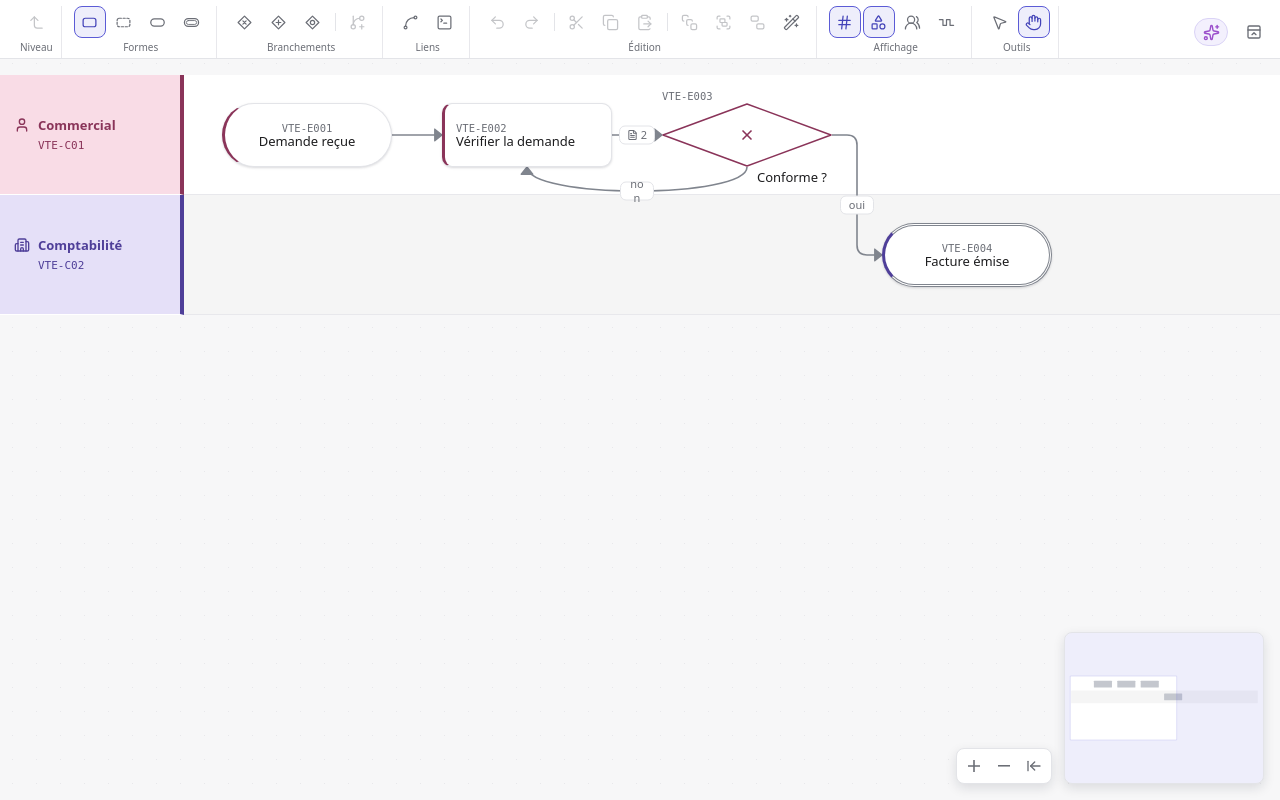
it: the panel of the assistant on the map › opens and closes by its button and Ctrl+I, reads its state and says where the data go
Click the button with test id "ribbon-assistant". click: (1211, 32)
box: [1194,18,1228,46]
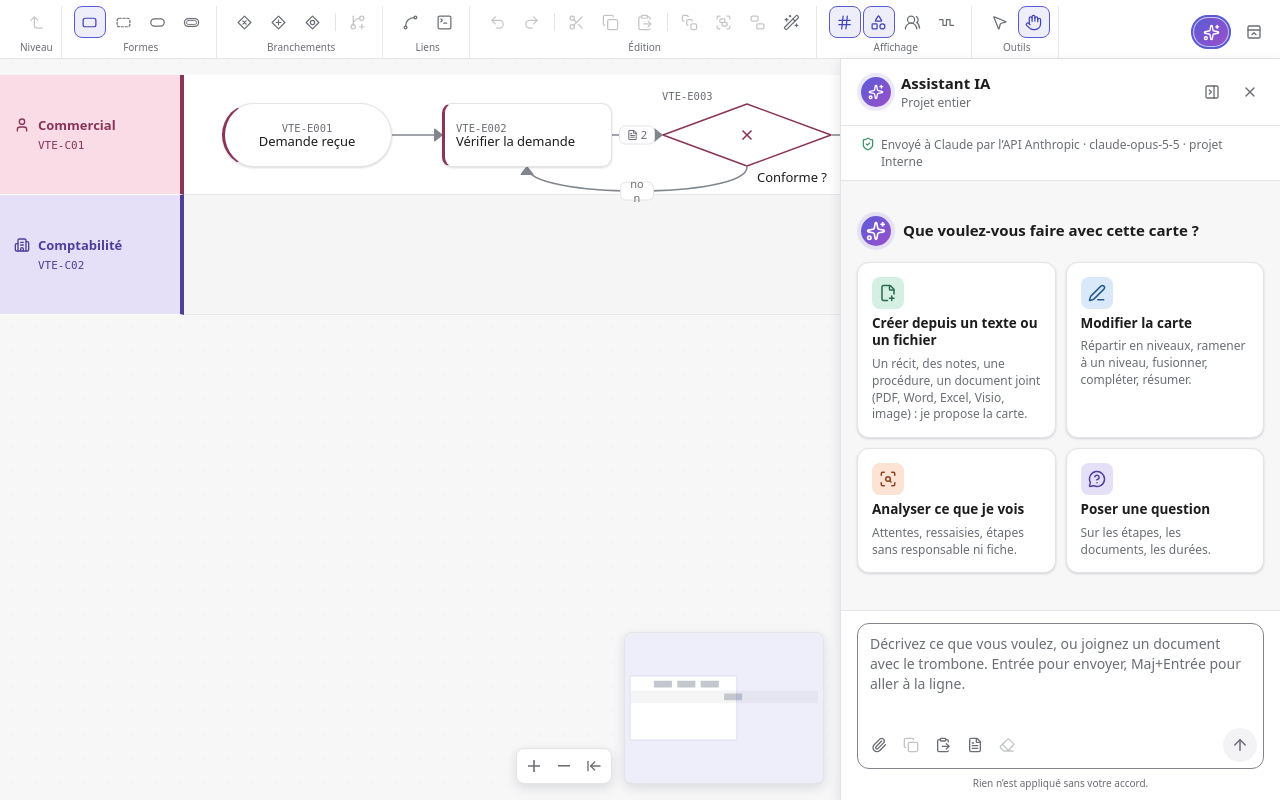
Now the element with test id "assistant-tiles" that starts with "Que voulez-vous faire avec cette carte ?" is shown, box [857,216,1264,573]
Now the text with test id "assistant-scope" reads "Projet entier", box [901,94,971,111]
Now the element with test id "assistant-destination" shows "Claude par l’API Anthropic · claude-opus-5-5 · projet Interne", box [881,136,1223,170]
Press i in the text box with test id "assistant-field", box [858,624,1263,724]
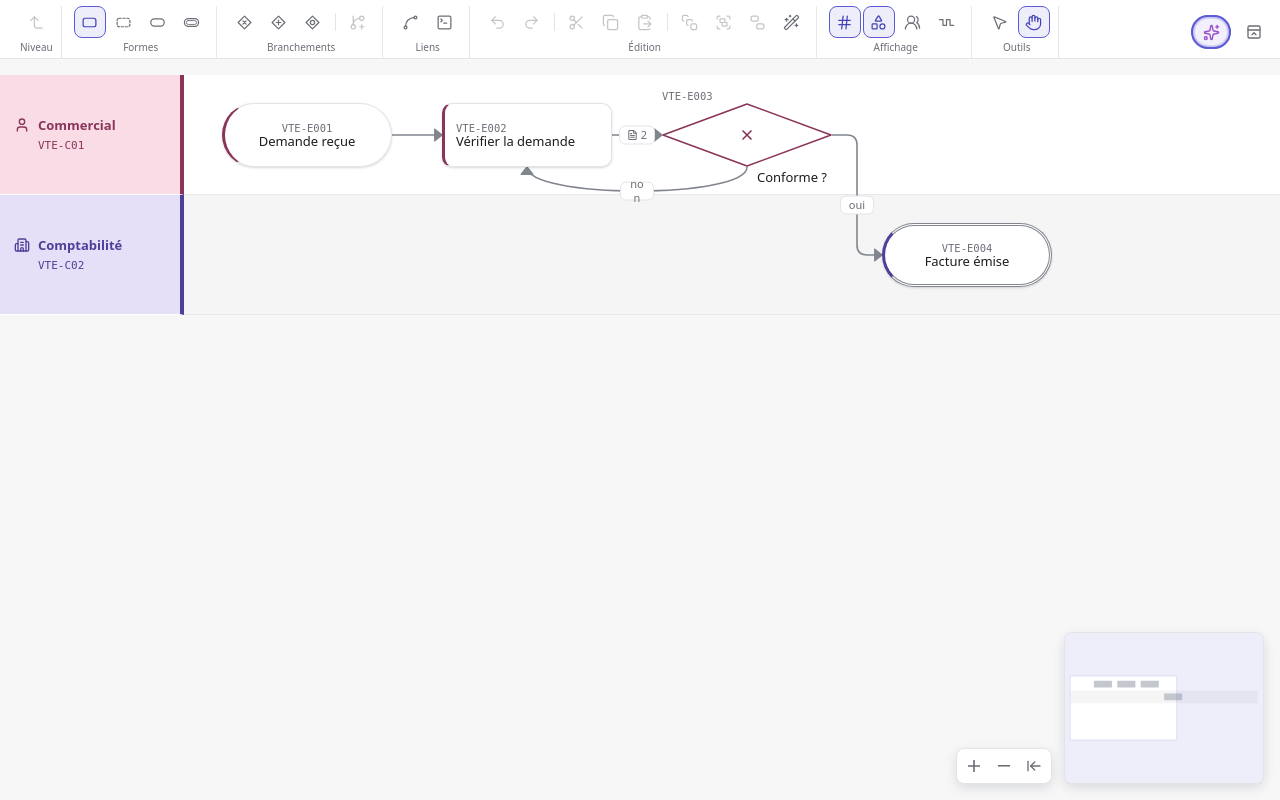
Now the element with test id "assistant-panel" is gone
Press i
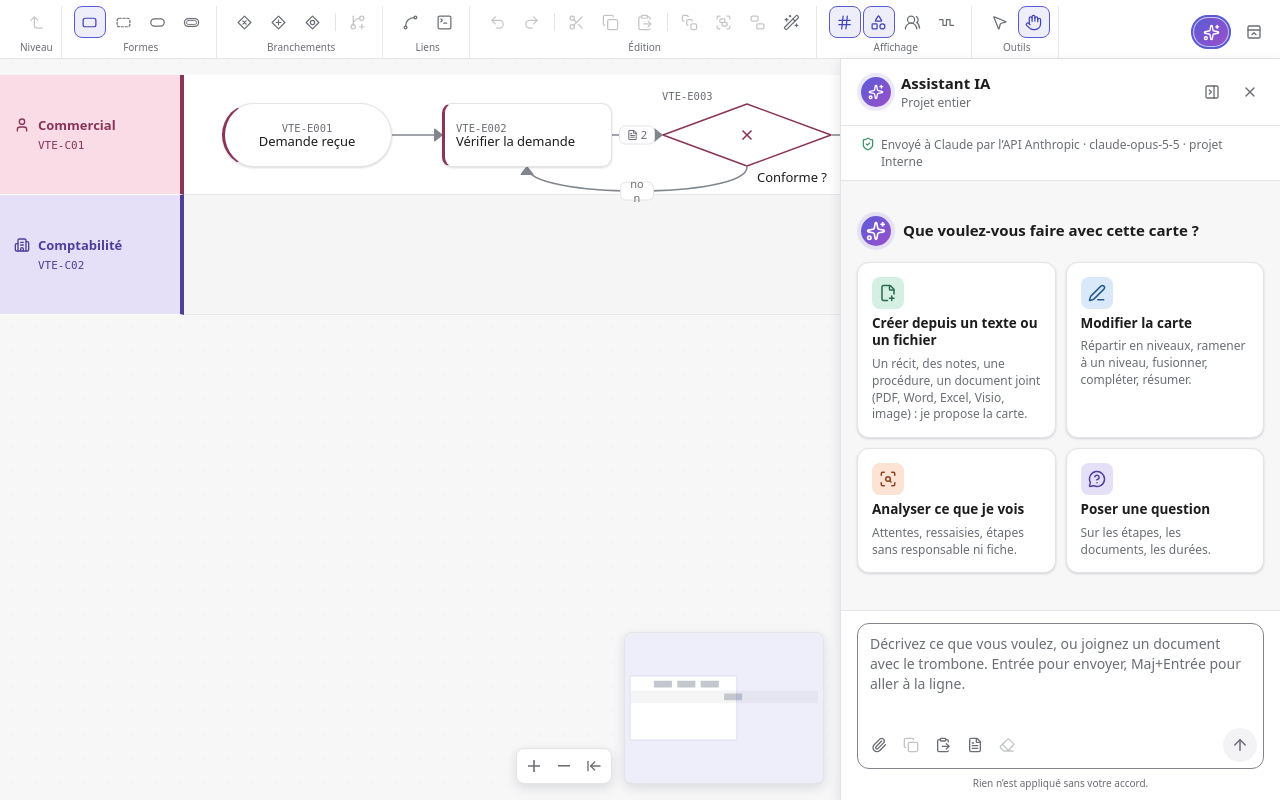
Now the element with test id "assistant-panel" is shown, box [840,59,1279,799]
Press i
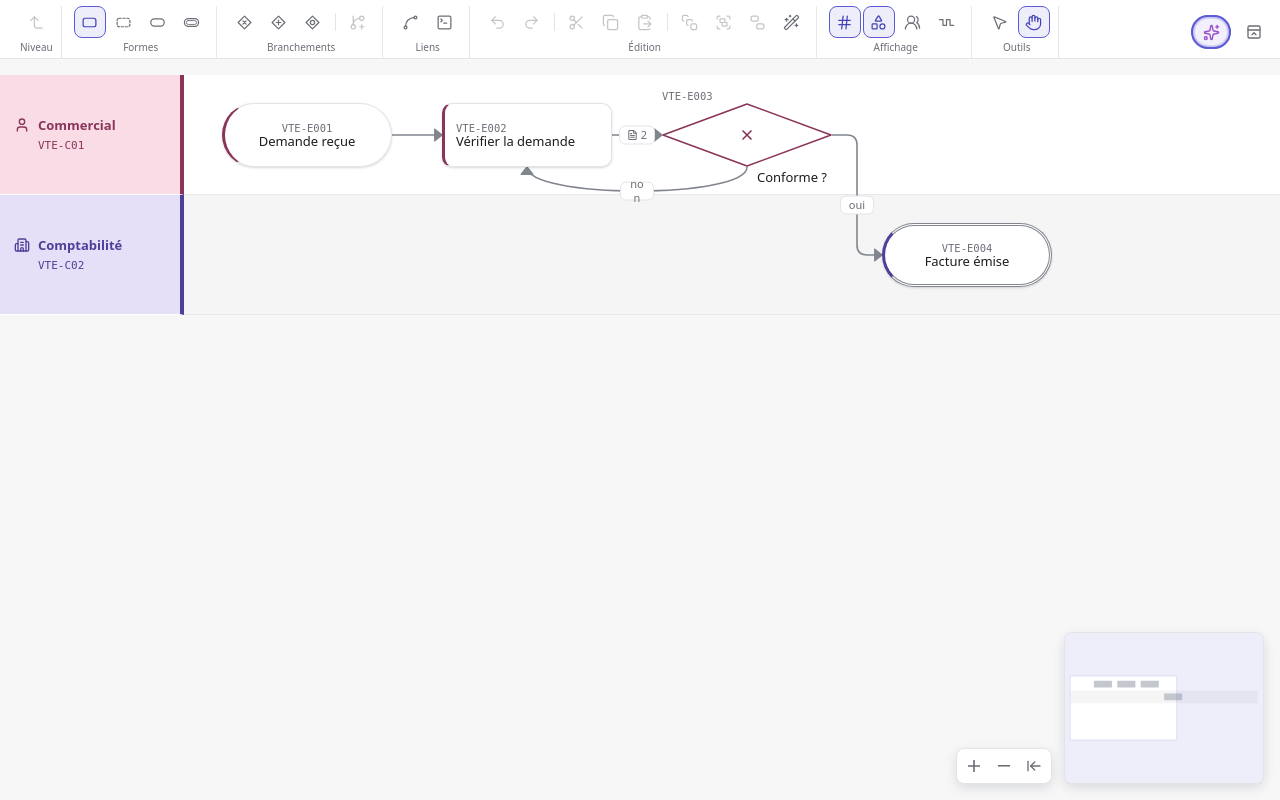
Now the element with test id "assistant-panel" is gone
Click the button with test id "ribbon-assistant". click: (1211, 32)
box: [1194,18,1228,46]
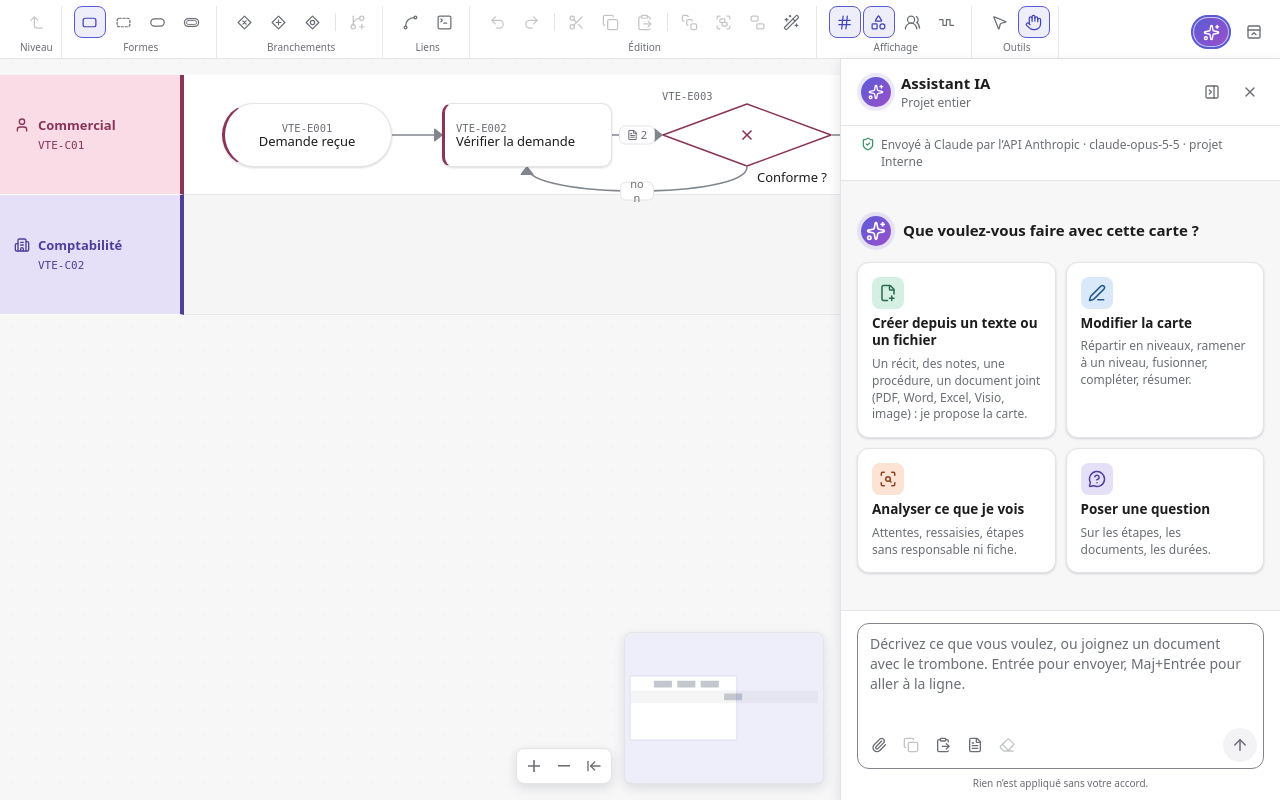
Click the button with test id "ribbon-assistant". click: (1211, 32)
box: [1194,18,1228,46]
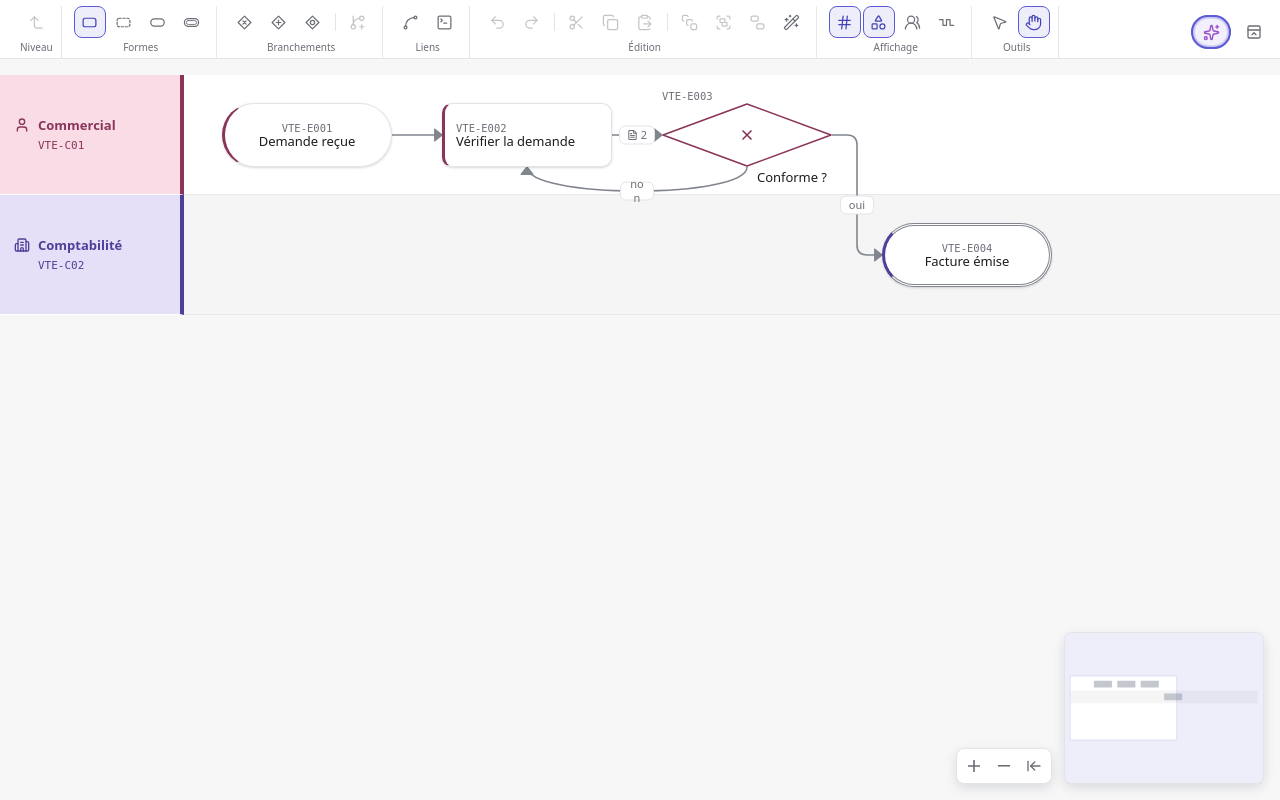
Now the element with test id "assistant-panel" is gone
